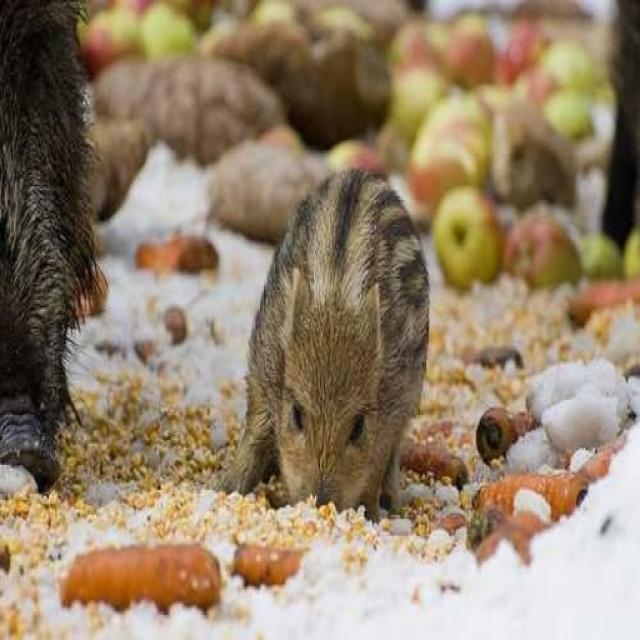pig: (200, 177, 492, 507)
